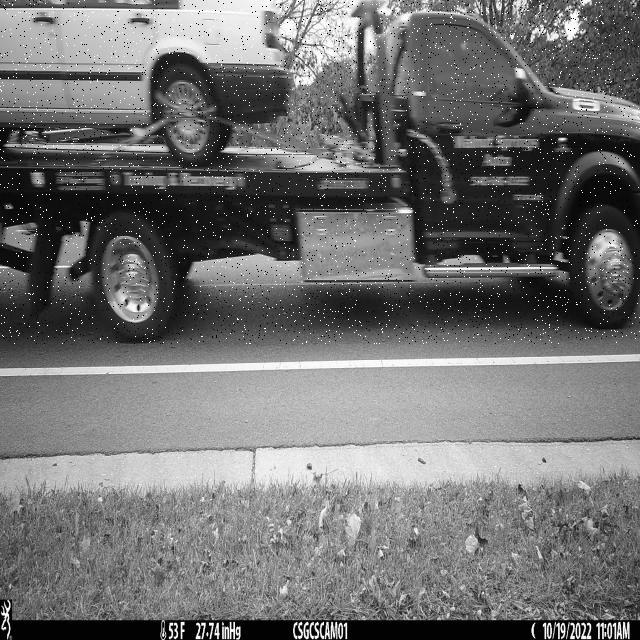Tow Truck: (0, 0, 640, 344)
